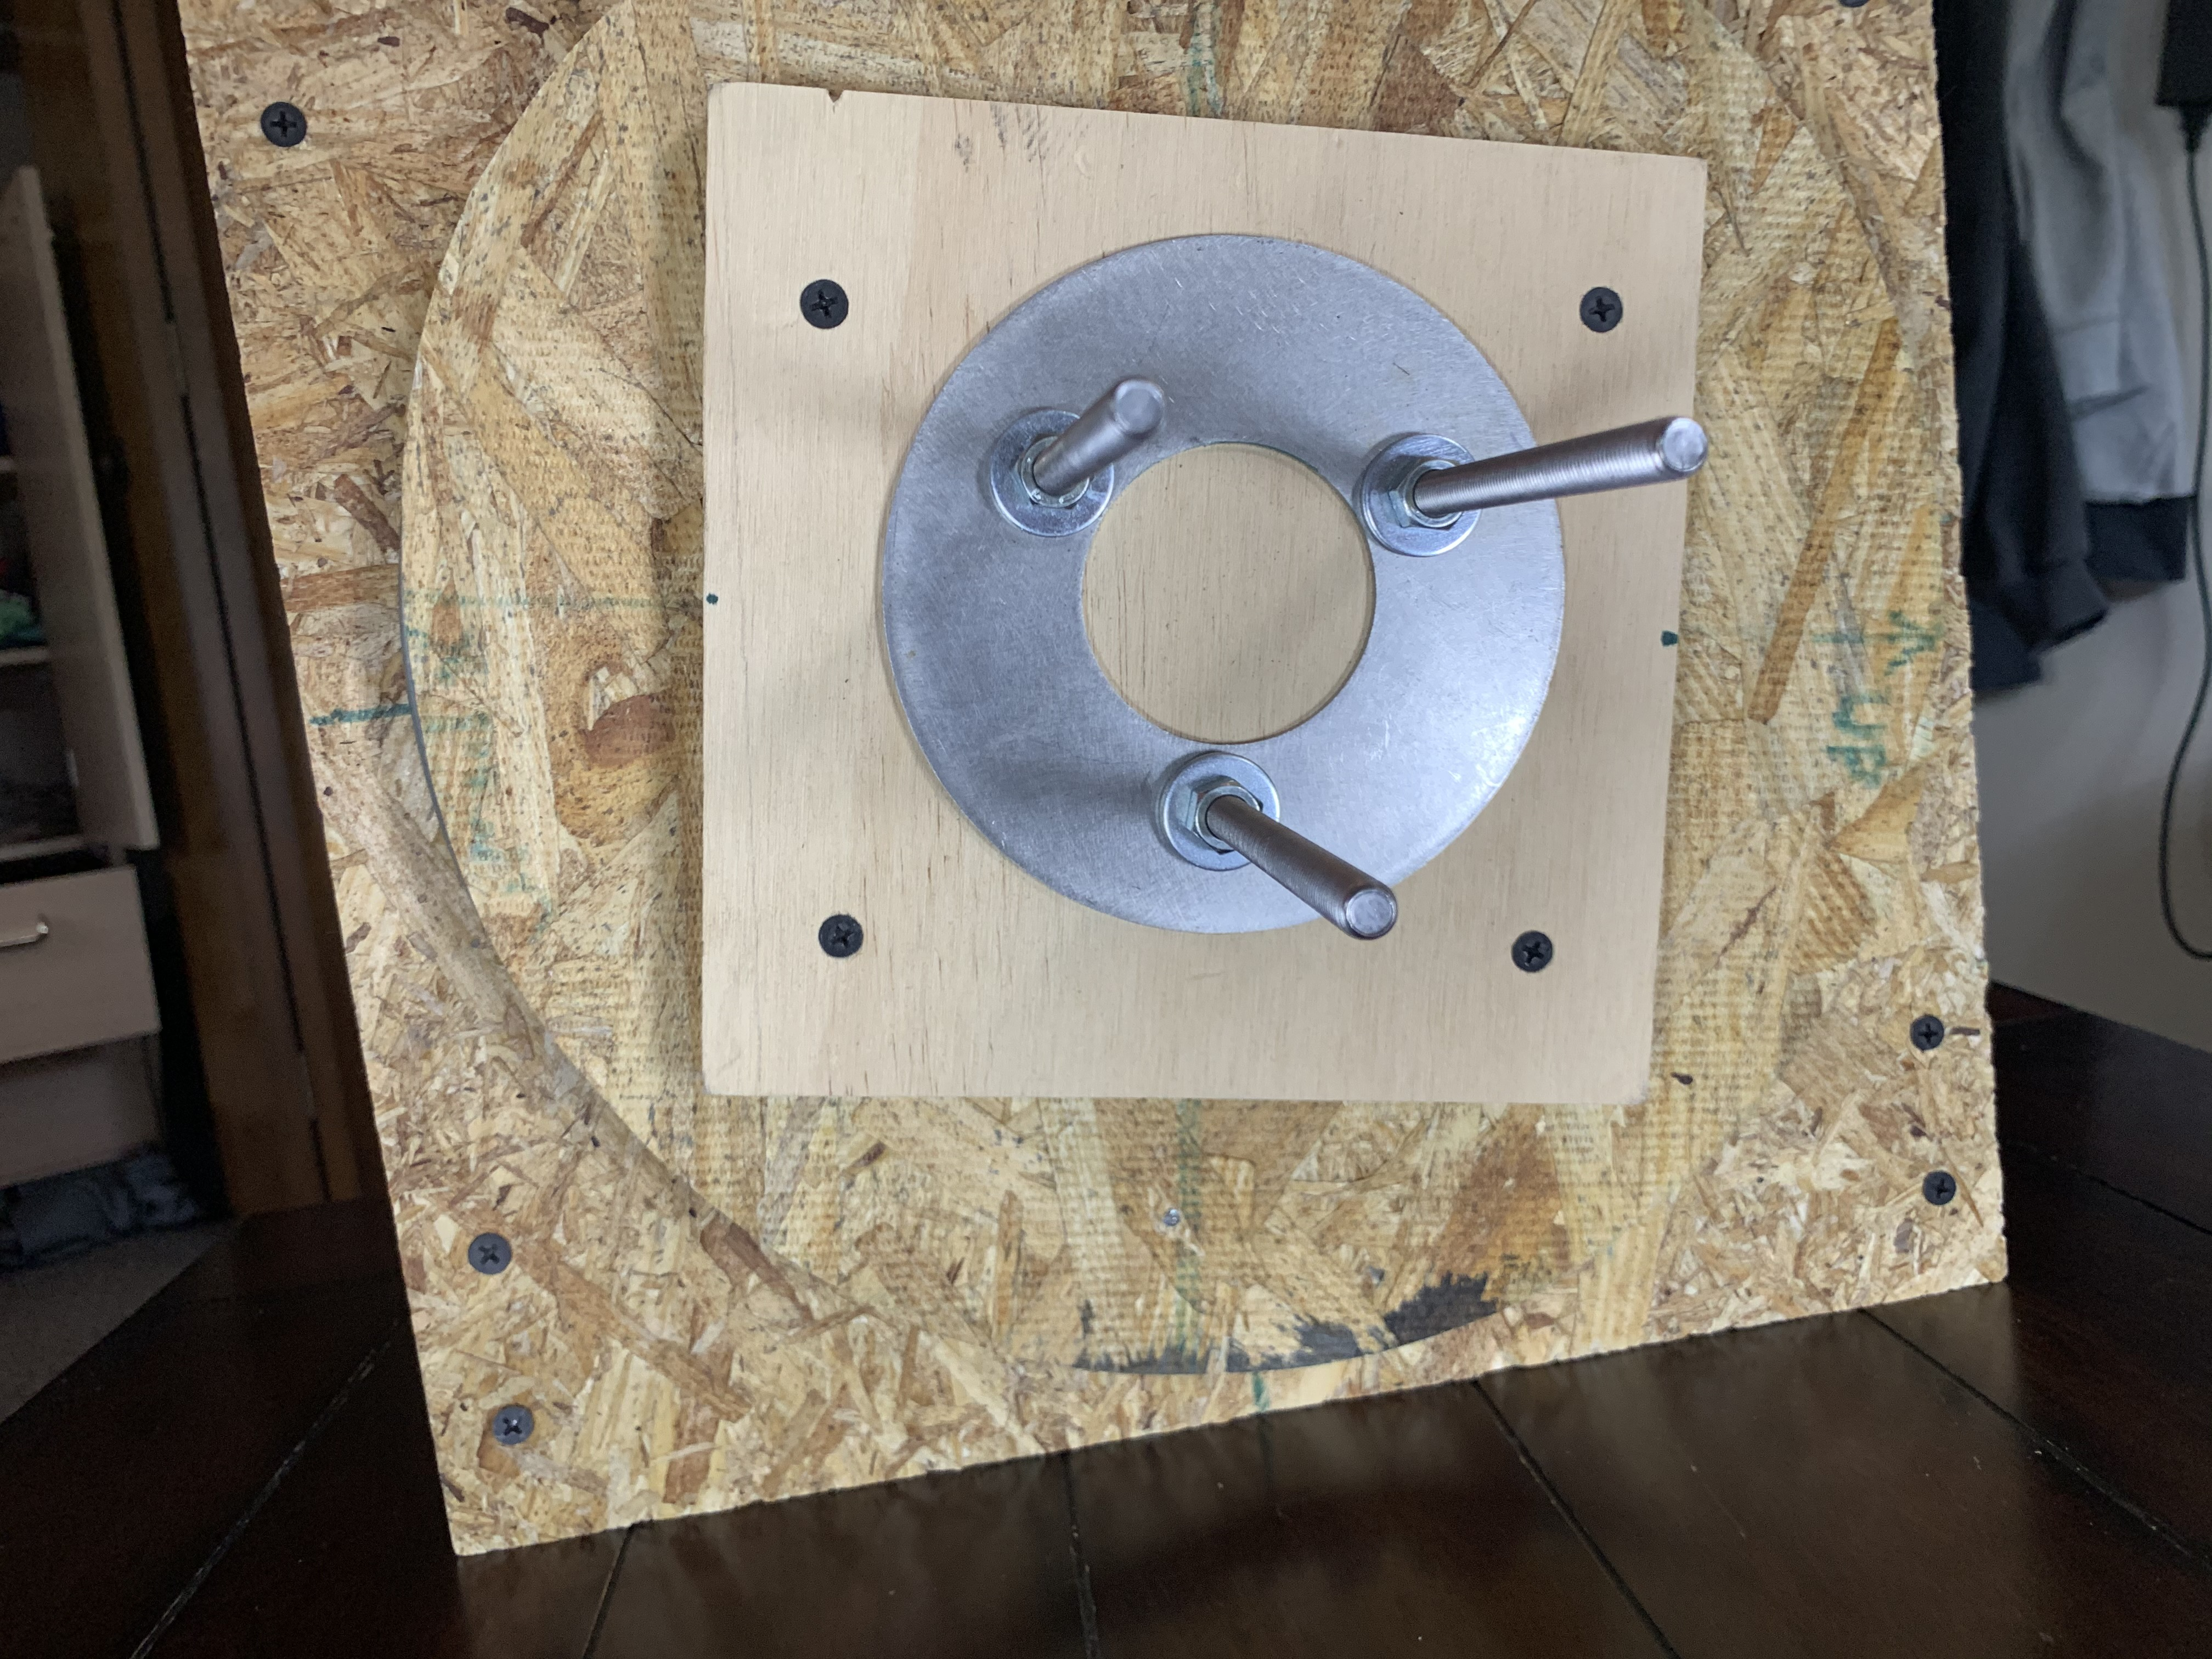bolt: (1346, 429, 1487, 565), (1148, 744, 1285, 877), (986, 408, 1113, 540)
